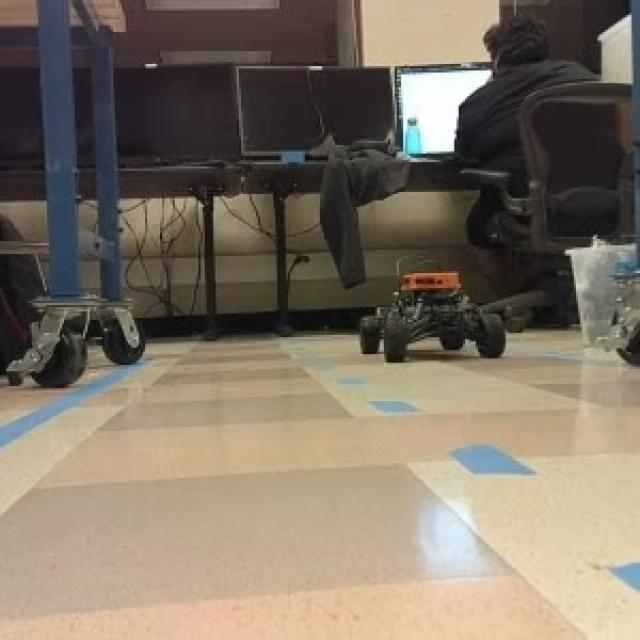obstacle: (350, 262, 514, 374)
